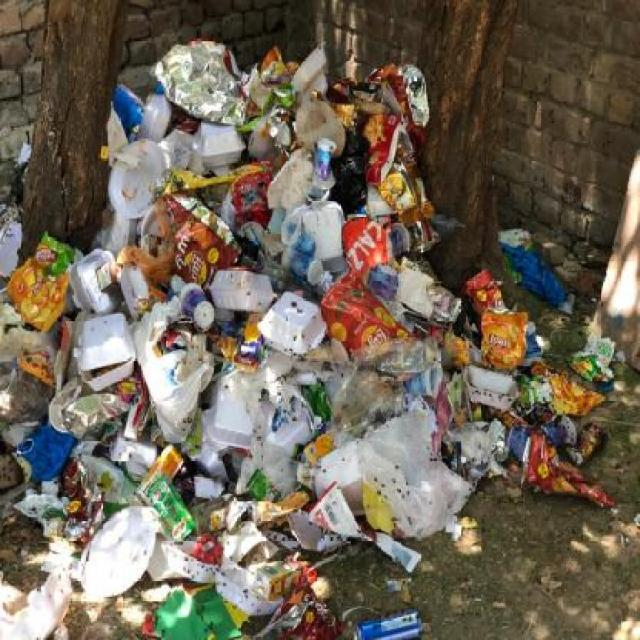garbage: (3, 26, 639, 640)
